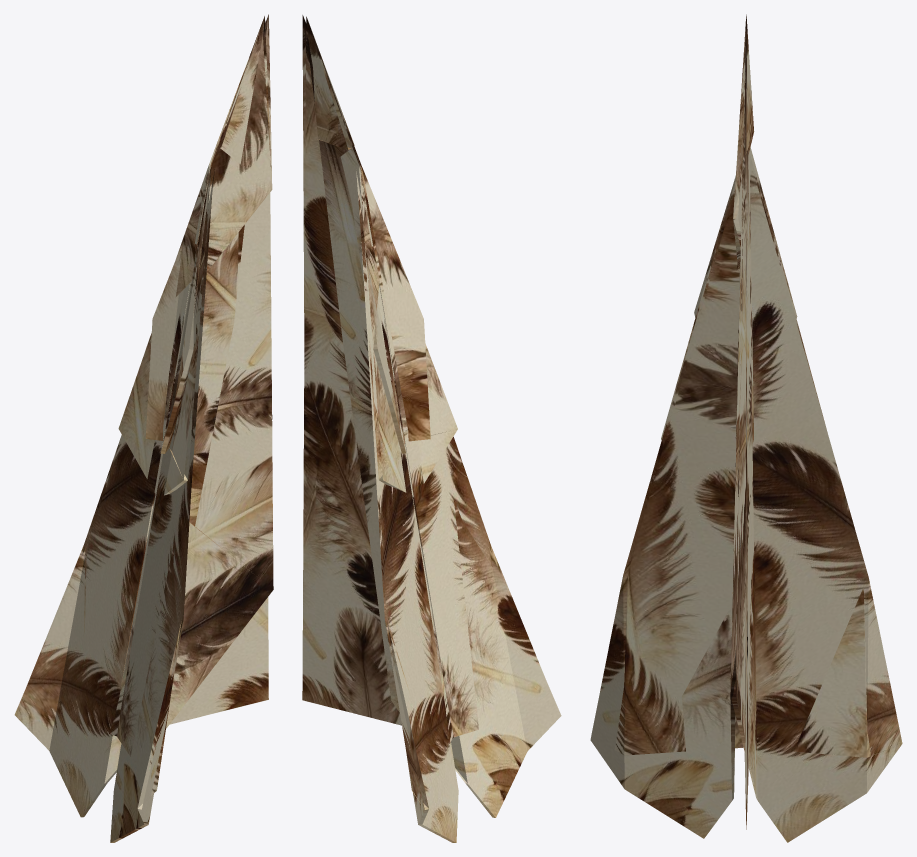
The picture shows the model from 3 angles, left to right: view 1: azimuth 30°, elevation 25°; view 2: azimuth 150°, elevation 25°; view 3: azimuth 270°, elevation 25°; orthographic projection. The views are drawn at different scales.
Parts seen in each view (by area): view 1: Origami_Model_69.001; view 2: Origami_Model_69.001; view 3: Origami_Model_69.001.
Part boxes in pixels (<box>): Origami_Model_69.001: <box>14,14,273,842</box>; Origami_Model_69.001: <box>302,15,561,842</box>; Origami_Model_69.001: <box>590,14,902,842</box>.
Bounding box in the file's own units: 0.0506 × 0.1922 × 0.0588.
1 material, 1 textured.
